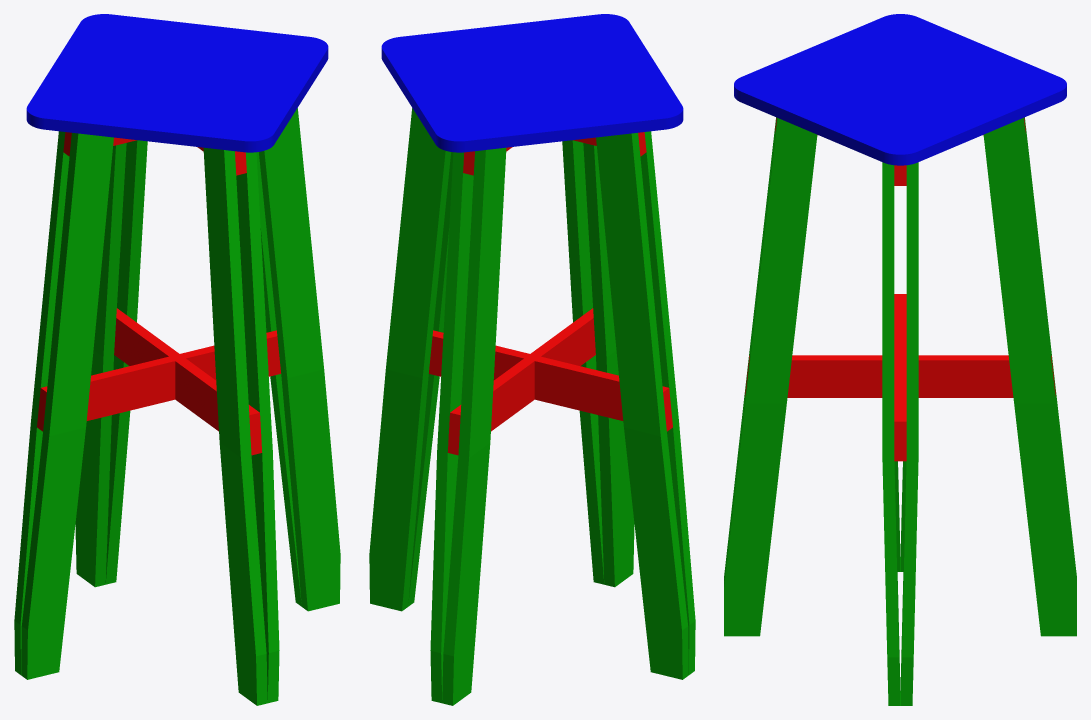
File: result.glb
The picture shows the model from 3 angles, left to right: view 1: azimuth 30°, elevation 25°; view 2: azimuth 150°, elevation 25°; view 3: azimuth 270°, elevation 25°; orthographic projection. The views are drawn at different scales.
Visible parts, largest first — view 1: 266baa1a-b34d-450c-914b-03970232b266__undefined, 33550af6-6ac9-440d-8912-dfa109fb2e7c__undefined, b76c067c-a8d2-4237-b40e-92473303728d__undefined, 66c689e6-75bd-416e-a002-91c6fe03eb7f__Box_4, 51c79101-a68a-4c3f-a8f6-70092f298e91__undefined, f05e21f0-1609-4c82-8c11-8622ceb239ff__Box_5, 8164b963-600b-4848-82ed-721a3dcb3f66__Box_6, bc22d1e6-c2f7-49dd-9e75-68ce76471e08__undefined, e211d5bd-f9da-4974-8d24-408cf71cfc3b__undefined, 021c836d-6846-429f-9bb5-8620433a6482__undefined, fbf5923c-5109-44ce-85c6-afd3f470e051__undefined, d25387f8-47ee-49f8-bba4-c9b8c7dfc350__undefined (+1 smaller); view 2: 021c836d-6846-429f-9bb5-8620433a6482__undefined, ee31ae6a-5287-45ac-9479-979cf31e8c0b__undefined, bc22d1e6-c2f7-49dd-9e75-68ce76471e08__undefined, 8164b963-600b-4848-82ed-721a3dcb3f66__Box_6, f05e21f0-1609-4c82-8c11-8622ceb239ff__Box_5, e211d5bd-f9da-4974-8d24-408cf71cfc3b__undefined, 66c689e6-75bd-416e-a002-91c6fe03eb7f__Box_4, b76c067c-a8d2-4237-b40e-92473303728d__undefined, 51c79101-a68a-4c3f-a8f6-70092f298e91__undefined, 266baa1a-b34d-450c-914b-03970232b266__undefined, fbf5923c-5109-44ce-85c6-afd3f470e051__undefined, d25387f8-47ee-49f8-bba4-c9b8c7dfc350__undefined (+1 smaller); view 3: e211d5bd-f9da-4974-8d24-408cf71cfc3b__undefined, 51c79101-a68a-4c3f-a8f6-70092f298e91__undefined, 8164b963-600b-4848-82ed-721a3dcb3f66__Box_6, f05e21f0-1609-4c82-8c11-8622ceb239ff__Box_5, 66c689e6-75bd-416e-a002-91c6fe03eb7f__Box_4, d25387f8-47ee-49f8-bba4-c9b8c7dfc350__undefined, 33550af6-6ac9-440d-8912-dfa109fb2e7c__undefined, ee31ae6a-5287-45ac-9479-979cf31e8c0b__undefined, fbf5923c-5109-44ce-85c6-afd3f470e051__undefined, bc22d1e6-c2f7-49dd-9e75-68ce76471e08__undefined, b76c067c-a8d2-4237-b40e-92473303728d__undefined.
Boxes of the visible parts, x1=… form: 266baa1a-b34d-450c-914b-03970232b266__undefined: x1=21, y1=133, x2=113, y2=679; 33550af6-6ac9-440d-8912-dfa109fb2e7c__undefined: x1=259, y1=108, x2=340, y2=611; b76c067c-a8d2-4237-b40e-92473303728d__undefined: x1=203, y1=147, x2=267, y2=705; 66c689e6-75bd-416e-a002-91c6fe03eb7f__Box_4: x1=26, y1=81, x2=289, y2=152; 51c79101-a68a-4c3f-a8f6-70092f298e91__undefined: x1=236, y1=152, x2=279, y2=703; f05e21f0-1609-4c82-8c11-8622ceb239ff__Box_5: x1=43, y1=46, x2=311, y2=119; 8164b963-600b-4848-82ed-721a3dcb3f66__Box_6: x1=65, y1=14, x2=328, y2=84; bc22d1e6-c2f7-49dd-9e75-68ce76471e08__undefined: x1=75, y1=143, x2=126, y2=587; e211d5bd-f9da-4974-8d24-408cf71cfc3b__undefined: x1=105, y1=140, x2=147, y2=584; 021c836d-6846-429f-9bb5-8620433a6482__undefined: x1=14, y1=131, x2=69, y2=674; fbf5923c-5109-44ce-85c6-afd3f470e051__undefined: x1=37, y1=330, x2=280, y2=431; d25387f8-47ee-49f8-bba4-c9b8c7dfc350__undefined: x1=114, y1=308, x2=262, y2=455; 021c836d-6846-429f-9bb5-8620433a6482__undefined: x1=596, y1=133, x2=688, y2=679; ee31ae6a-5287-45ac-9479-979cf31e8c0b__undefined: x1=369, y1=108, x2=450, y2=611; bc22d1e6-c2f7-49dd-9e75-68ce76471e08__undefined: x1=442, y1=147, x2=506, y2=705; 8164b963-600b-4848-82ed-721a3dcb3f66__Box_6: x1=381, y1=30, x2=524, y2=152; f05e21f0-1609-4c82-8c11-8622ceb239ff__Box_5: x1=458, y1=21, x2=606, y2=145; e211d5bd-f9da-4974-8d24-408cf71cfc3b__undefined: x1=430, y1=152, x2=473, y2=703; 66c689e6-75bd-416e-a002-91c6fe03eb7f__Box_4: x1=541, y1=14, x2=683, y2=136; b76c067c-a8d2-4237-b40e-92473303728d__undefined: x1=583, y1=143, x2=634, y2=587; 51c79101-a68a-4c3f-a8f6-70092f298e91__undefined: x1=562, y1=140, x2=604, y2=584; 266baa1a-b34d-450c-914b-03970232b266__undefined: x1=640, y1=131, x2=695, y2=674; fbf5923c-5109-44ce-85c6-afd3f470e051__undefined: x1=429, y1=330, x2=672, y2=431; d25387f8-47ee-49f8-bba4-c9b8c7dfc350__undefined: x1=447, y1=308, x2=595, y2=455; e211d5bd-f9da-4974-8d24-408cf71cfc3b__undefined: x1=983, y1=118, x2=1076, y2=636; 51c79101-a68a-4c3f-a8f6-70092f298e91__undefined: x1=724, y1=118, x2=817, y2=636; 8164b963-600b-4848-82ed-721a3dcb3f66__Box_6: x1=841, y1=59, x2=1066, y2=165; f05e21f0-1609-4c82-8c11-8622ceb239ff__Box_5: x1=783, y1=34, x2=1017, y2=144; 66c689e6-75bd-416e-a002-91c6fe03eb7f__Box_4: x1=734, y1=14, x2=958, y2=119; d25387f8-47ee-49f8-bba4-c9b8c7dfc350__undefined: x1=745, y1=355, x2=1055, y2=397; 33550af6-6ac9-440d-8912-dfa109fb2e7c__undefined: x1=882, y1=162, x2=900, y2=705; ee31ae6a-5287-45ac-9479-979cf31e8c0b__undefined: x1=900, y1=162, x2=918, y2=705; fbf5923c-5109-44ce-85c6-afd3f470e051__undefined: x1=894, y1=294, x2=906, y2=461; bc22d1e6-c2f7-49dd-9e75-68ce76471e08__undefined: x1=1024, y1=117, x2=1076, y2=581; b76c067c-a8d2-4237-b40e-92473303728d__undefined: x1=724, y1=117, x2=776, y2=581.
Size of the model in its own units: 382 by 653 by 382.
